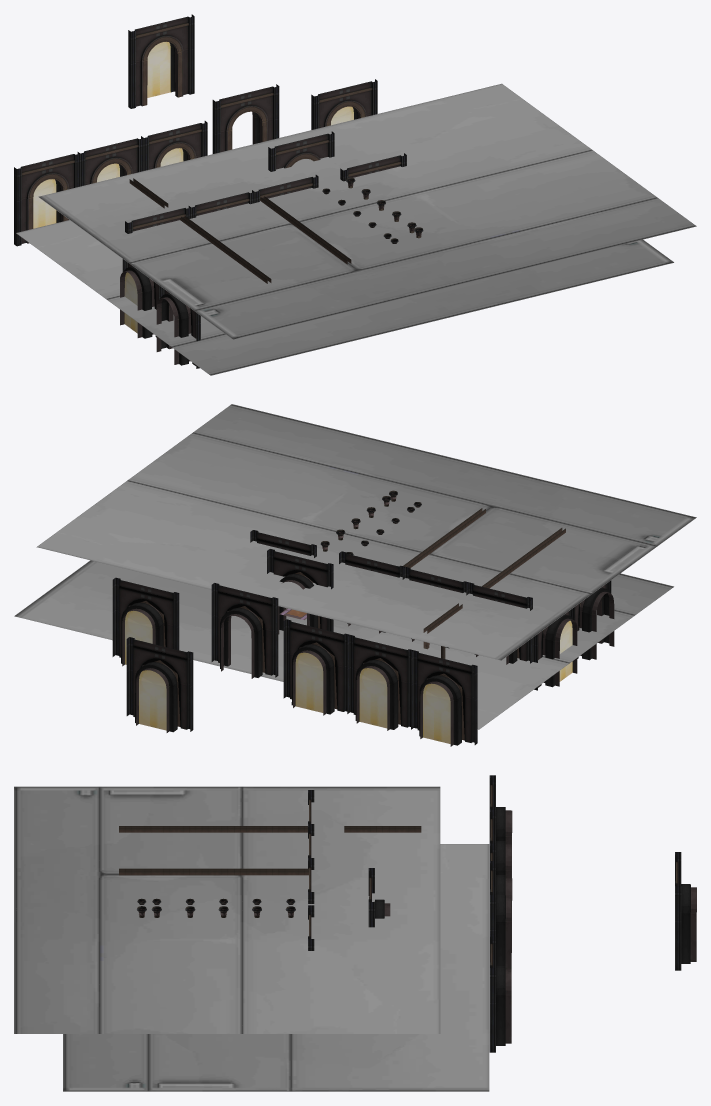
3 renders of one model, top to bottom at view 1: azimuth 30°, elevation 25°; view 2: azimuth 150°, elevation 25°; view 3: azimuth 270°, elevation 25°, orthographic. The views are drawn at different scales.
Visible parts, largest first — view 1: jeditemplehall_floor_02_mesh (×2), cor_jt_arch_02a_mesh (×13), cor_jt_archplug_mesh (×2); view 2: jeditemplehall_floor_02_mesh (×2), cor_jt_arch_02a_mesh (×13), cor_jt_archplug_mesh (×3), cor_jt_archplug_mesh (3), cor_jt_archplug_mesh (1), cor_jt_archplug_mesh (2); view 3: jeditemplehall_floor_02_mesh (×2), cor_jt_arch_02a_mesh (×6).
Boxes of the visible parts, left/top/right/bottom form: jeditemplehall_floor_02_mesh (×2): left=16, top=83, right=696, bottom=375; cor_jt_arch_02a_mesh (×13): left=14, top=14, right=406, bottom=368; cor_jt_archplug_mesh (×2): left=33, top=42, right=170, bottom=228; jeditemplehall_floor_02_mesh (×2): left=14, top=404, right=696, bottom=729; cor_jt_arch_02a_mesh (×13): left=112, top=530, right=614, bottom=746; cor_jt_archplug_mesh (×3): left=136, top=652, right=453, bottom=746; cor_jt_archplug_mesh (3): left=356, top=667, right=389, bottom=730; cor_jt_archplug_mesh (1): left=555, top=619, right=577, bottom=686; cor_jt_archplug_mesh (2): left=122, top=610, right=152, bottom=664; jeditemplehall_floor_02_mesh (×2): left=14, top=786, right=489, bottom=1091; cor_jt_arch_02a_mesh (×6): left=368, top=775, right=696, bottom=1052.
Size of what is drawn, in the model's own units: 281 by 68.19 by 327.
